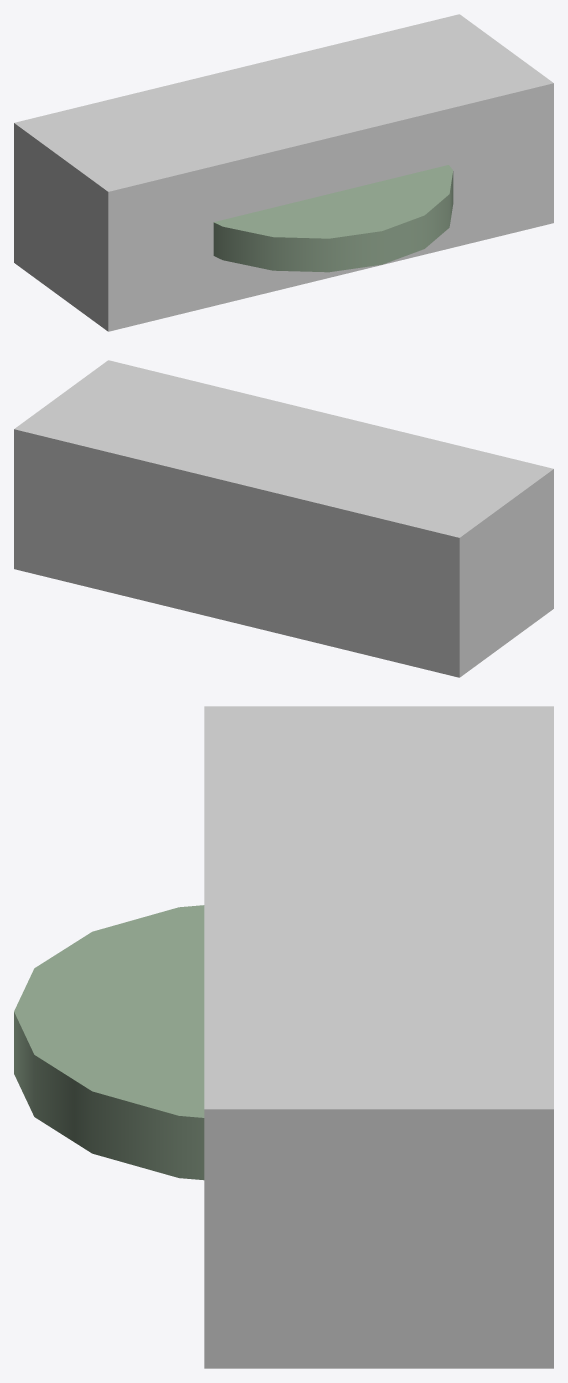
File: picture-light_retail.glb
3 views of the same model, one above another, from view 1: azimuth 30°, elevation 25°; view 2: azimuth 150°, elevation 25°; view 3: azimuth 270°, elevation 25° (orthographic). The views are drawn at different scales.
Parts seen in each view (by area): view 1: COL_picture-light, MESH_Shade; view 2: COL_picture-light; view 3: COL_picture-light, MESH_Shade.
Boxes of the visible parts, <box> form: COL_picture-light: <box>14,14,553,331</box>; MESH_Shade: <box>213,165,453,272</box>; COL_picture-light: <box>14,360,553,677</box>; COL_picture-light: <box>204,706,553,1368</box>; MESH_Shade: <box>14,905,204,1180</box>.
Bounding box in the file's own units: 0.6 × 0.18 × 0.3396.
